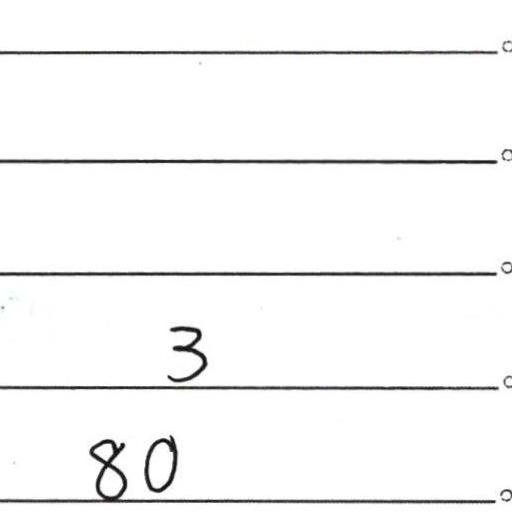ans: (86, 433, 181, 501), (161, 320, 210, 384)
